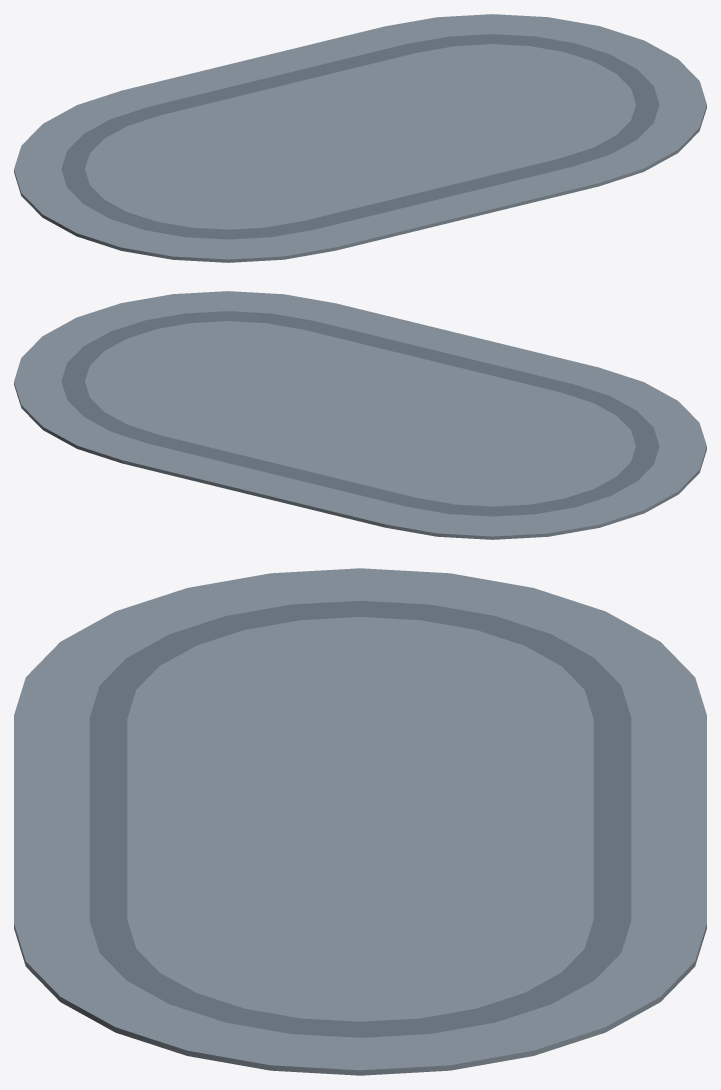
Rendered from rug-rounded.glb.
The picture shows the model from 3 angles, top to bottom: view 1: azimuth 30°, elevation 25°; view 2: azimuth 150°, elevation 25°; view 3: azimuth 270°, elevation 25°; orthographic projection. The views are drawn at different scales.
Visible parts, largest first — view 1: rug-rounded; view 2: rug-rounded; view 3: rug-rounded.
Part boxes in pixels (x1,y1,x2,y2): rug-rounded: (14, 14, 706, 262); rug-rounded: (14, 291, 706, 539); rug-rounded: (14, 568, 706, 1075).
Bounding box in the file's own units: 2.4 × 0.012 × 1.4.
